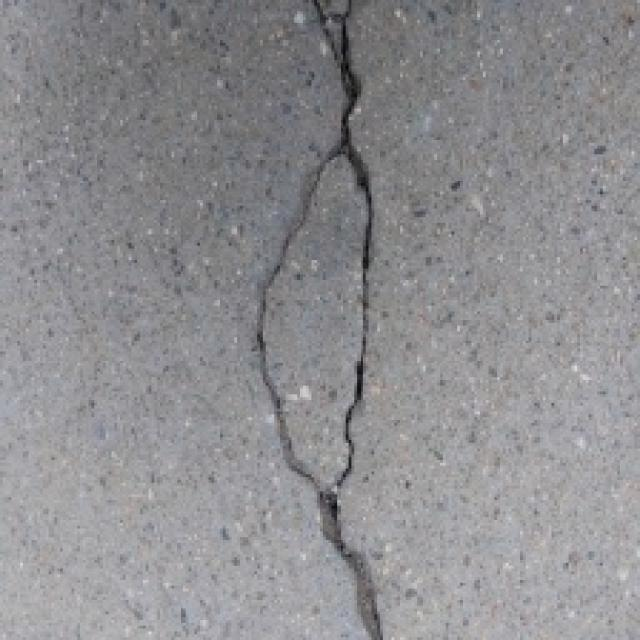crack: (244, 0, 418, 640)
